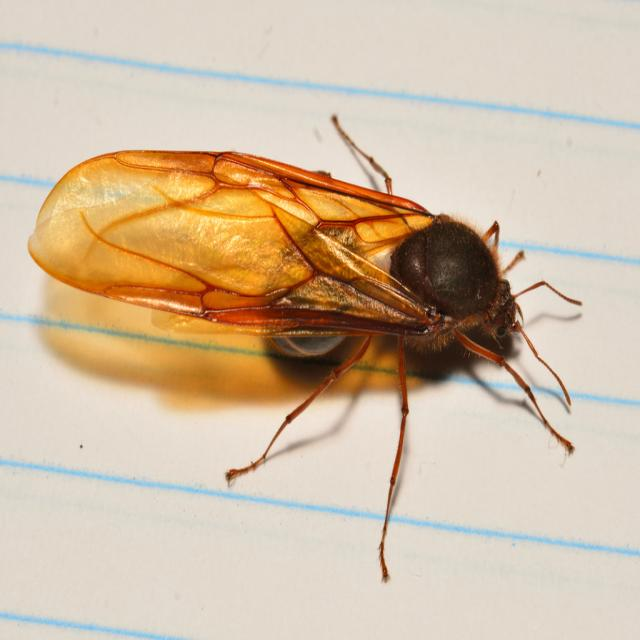Alive-Male-Alate: (30, 113, 585, 583)
